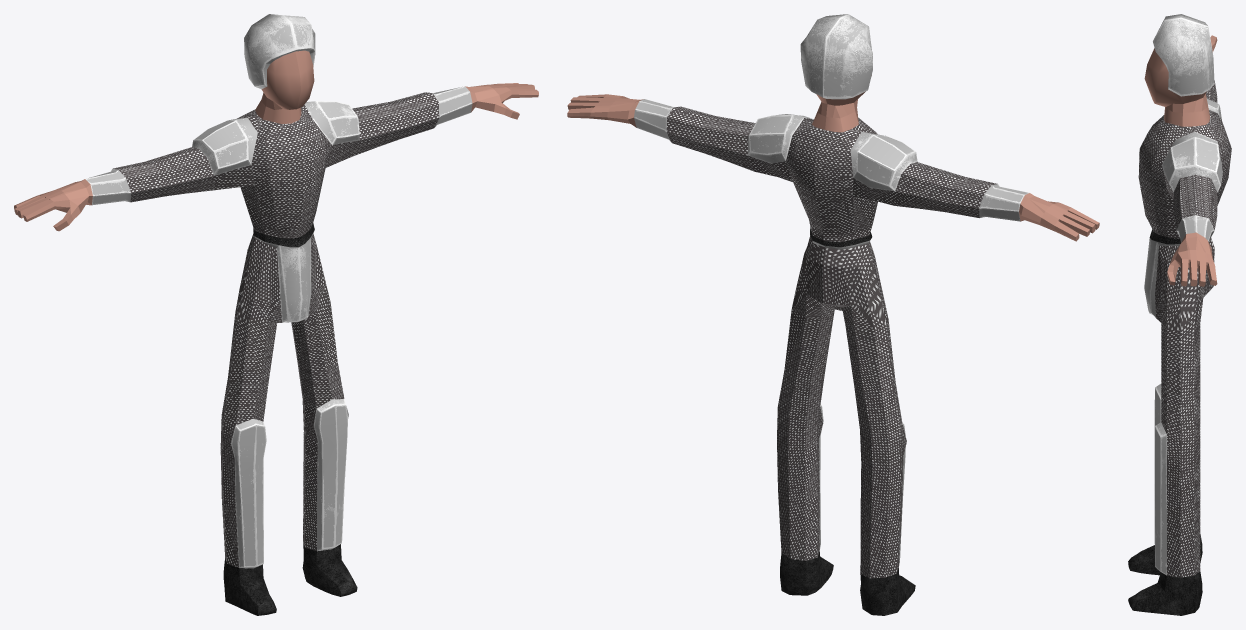
Rendered from SpaceCharacter.fbx.
3 renders of one model, left to right at view 1: azimuth 30°, elevation 25°; view 2: azimuth 150°, elevation 25°; view 3: azimuth 270°, elevation 25°, orthographic.
Parts seen in each view (by area): view 1: SpaceCharacter; view 2: SpaceCharacter; view 3: SpaceCharacter.
Boxes of the visible parts, <box> form: SpaceCharacter: <box>14,14,538,615</box>; SpaceCharacter: <box>567,14,1099,615</box>; SpaceCharacter: <box>1128,14,1231,615</box>.
Bounding box in the file's own units: 147 × 157 × 25.8.
6 materials, 5 textured.
